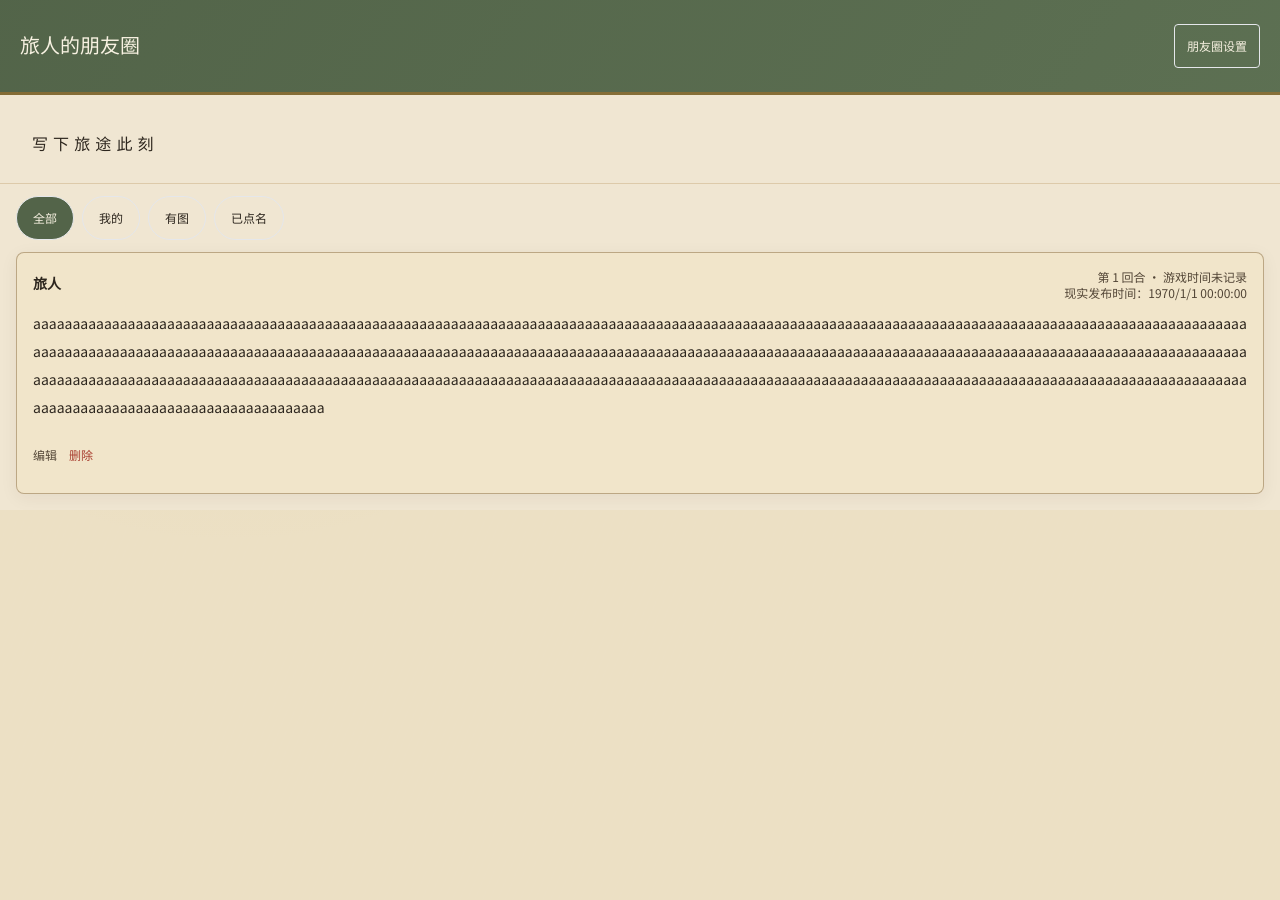
Scenario: mention_button_cannot_overflow_edit_draft_at_499_characters
The width and height of the screenshot is (1280, 900).
Click the button "编辑" at (45, 455), box 33,433 -> 57,477
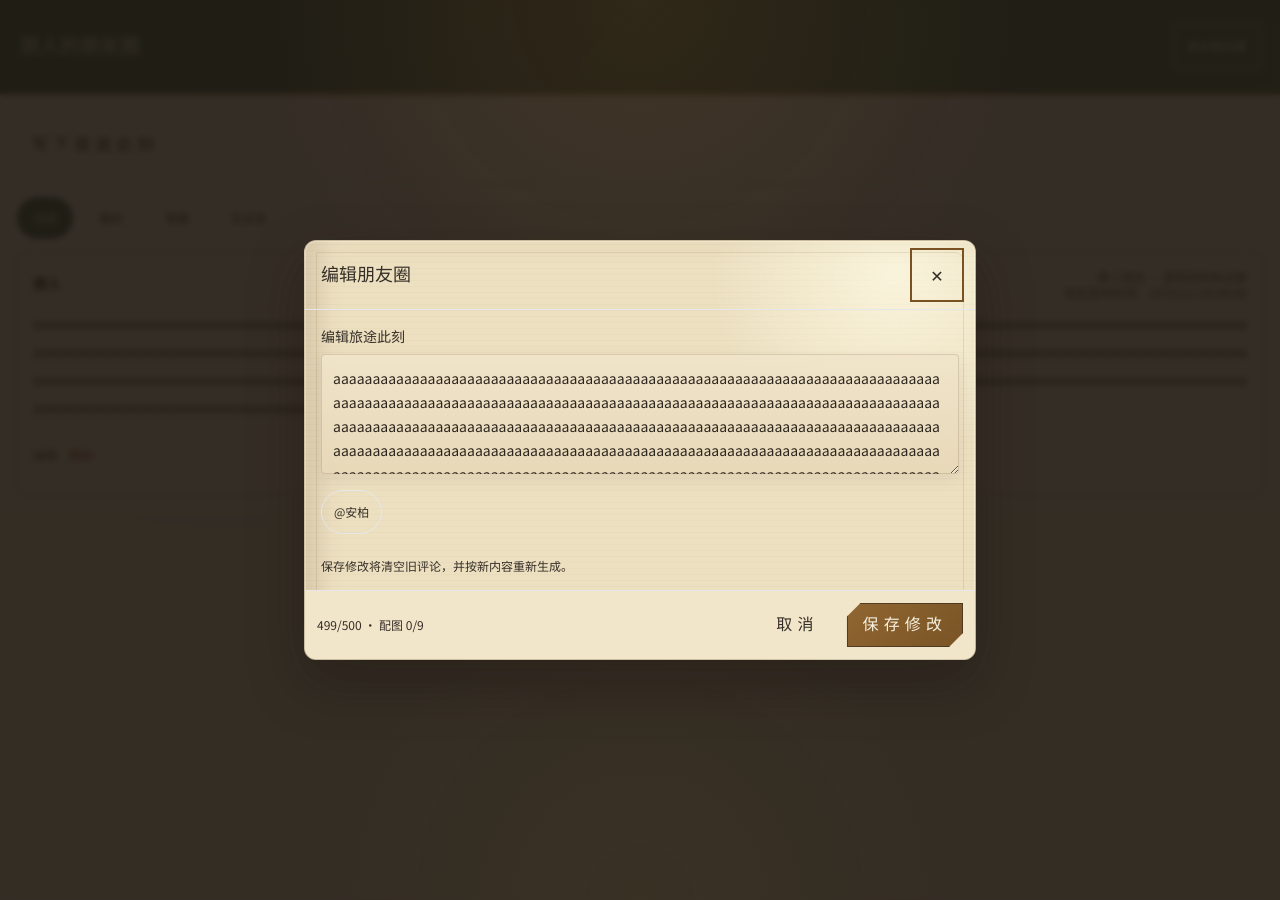
Click the button "@安柏" at (352, 512), box 321,490 -> 382,534
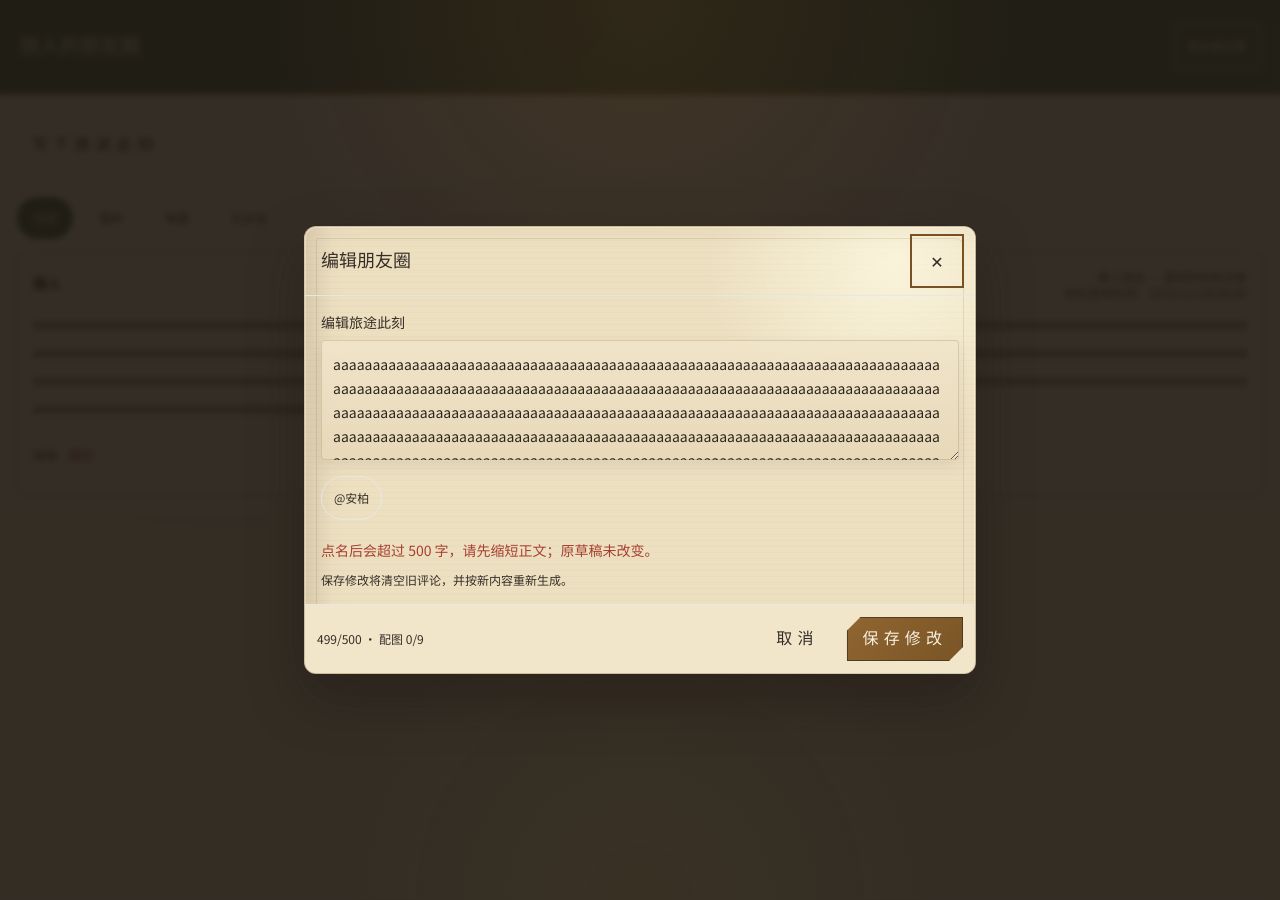
expect the message "点名后会超过 500 字，请先缩短正文；原草稿未改变。" is shown: met, box 321,540 -> 659,560
